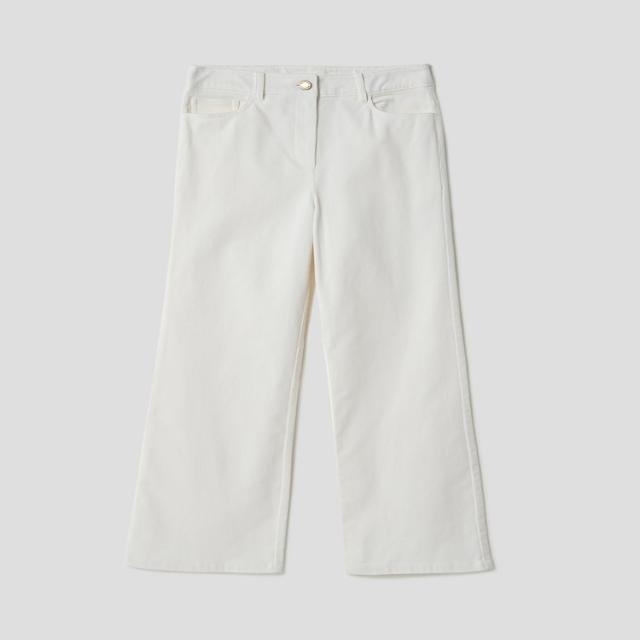long-pants: (123, 64, 497, 580)
